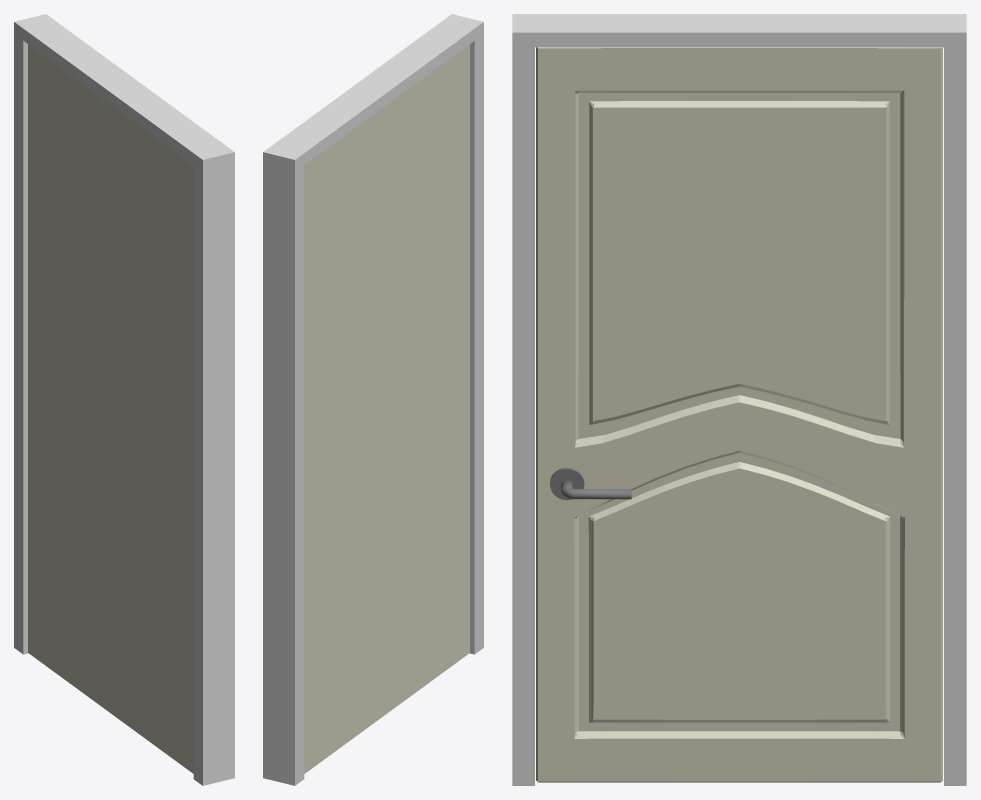
File: Door.fbx
The picture shows the model from 3 angles, left to right: view 1: azimuth 30°, elevation 25°; view 2: azimuth 150°, elevation 25°; view 3: azimuth 270°, elevation 25°; orthographic projection. The views are drawn at different scales.
Visible parts, largest first — view 1: Door, Doorframe; view 2: Door, Doorframe; view 3: Door, Doorframe, Handle.
Boxes of the visible parts, <box> form: Door: <box>28,44,193,773</box>; Doorframe: <box>14,14,234,785</box>; Door: <box>304,44,469,773</box>; Doorframe: <box>263,14,483,785</box>; Door: <box>536,47,942,782</box>; Doorframe: <box>512,14,966,785</box>; Handle: <box>550,467,631,500</box>.
Bounding box in the file's own units: 2.39 × 27.68 × 15.13.
